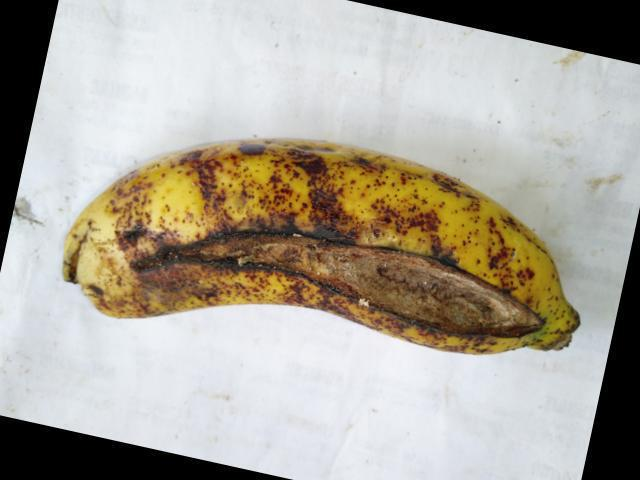rotten: (144, 202, 556, 361)
